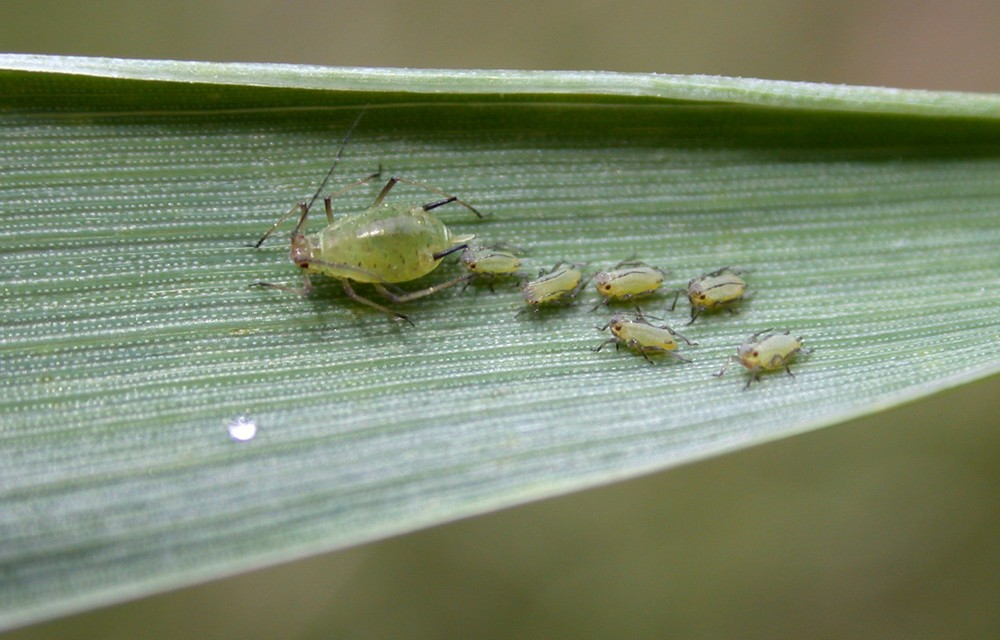Pulgon: (242, 167, 479, 320), (592, 304, 707, 378), (726, 319, 820, 392), (683, 253, 762, 325), (589, 250, 675, 310), (463, 229, 529, 296), (518, 258, 593, 314)
